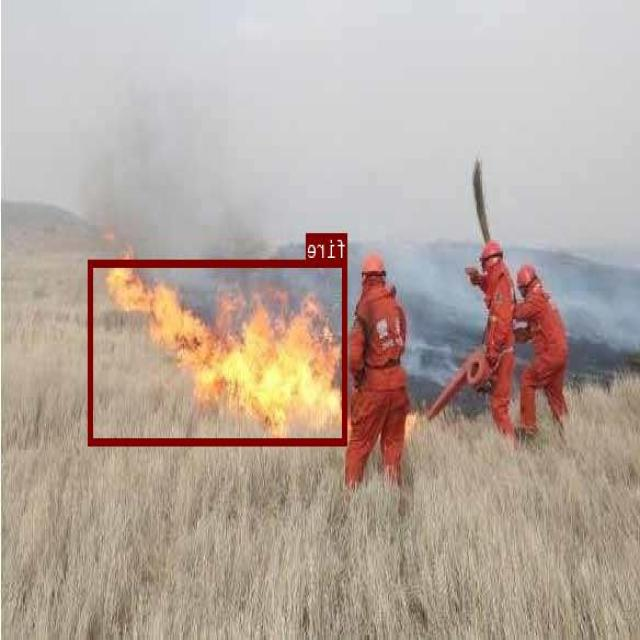fire: (89, 258, 348, 444)
